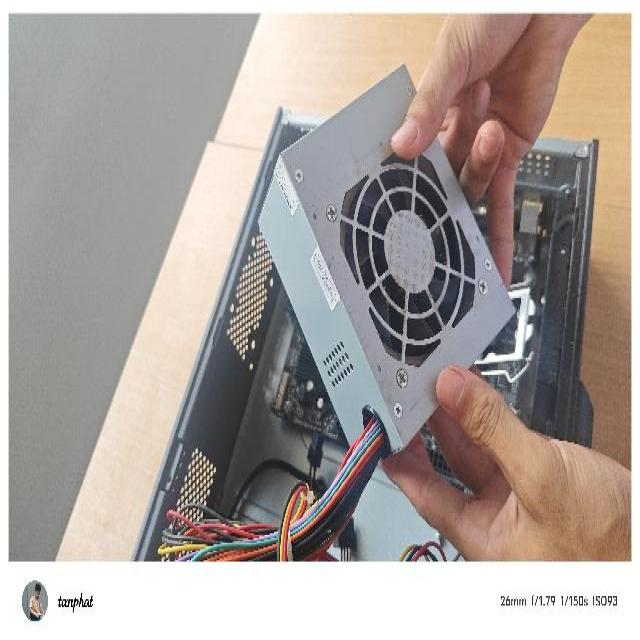PSU: (257, 60, 517, 470)
